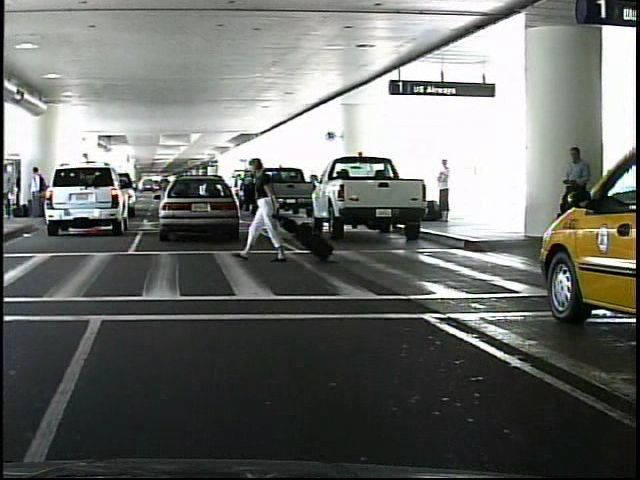person: (251, 156, 292, 261), (556, 142, 593, 256), (432, 156, 457, 223), (28, 163, 46, 223)
